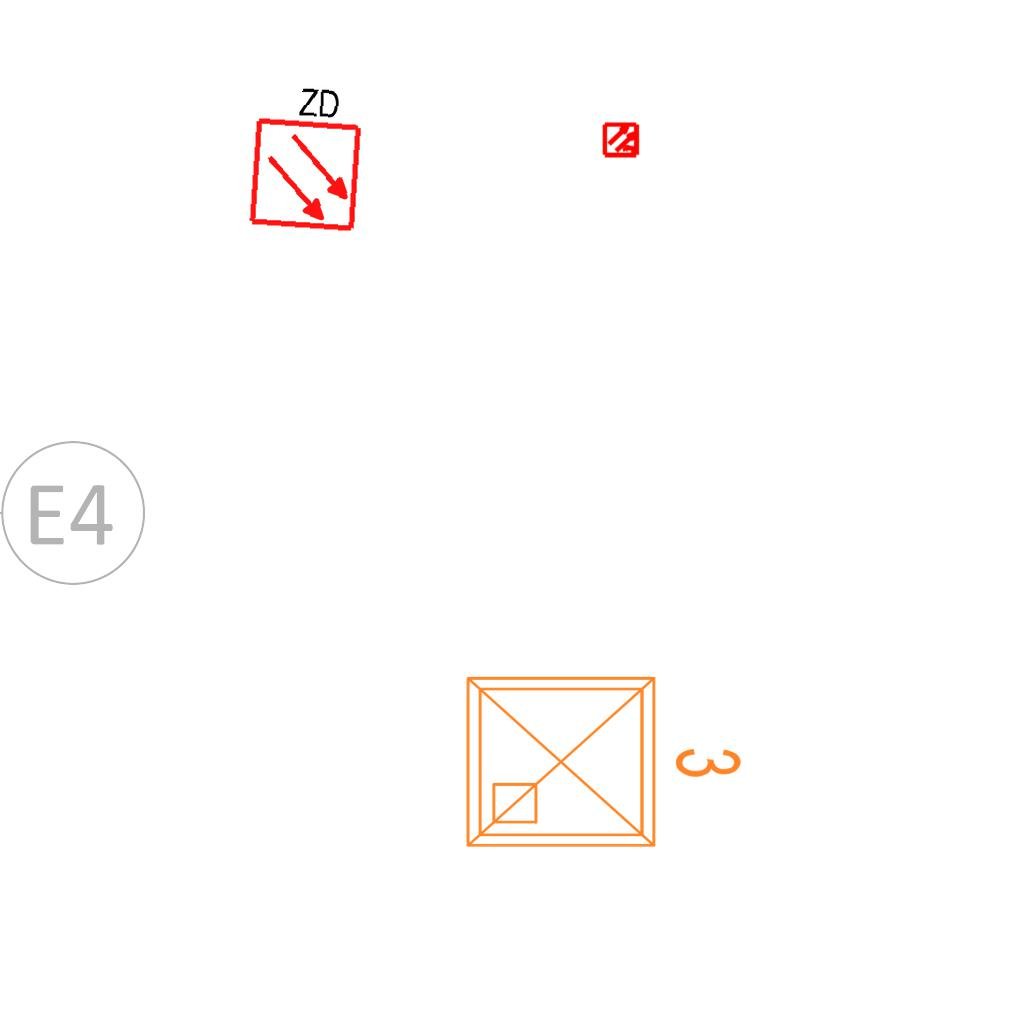Einbaudownlights_LED_Konferenzraeume: (452, 654, 752, 862)
OT_Multisensormelder_(Kombination_RMO_WMD): (594, 112, 650, 168)
ZD_Melder_in_Zwischendecke_mit_Revisionsoeffnung_mind_40_x_40_cm: (242, 77, 368, 234)
